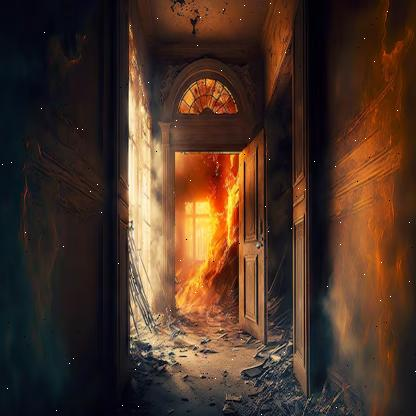fire: (336, 10, 413, 406), (171, 159, 242, 323)
smoke: (315, 146, 377, 406), (126, 61, 184, 331)
